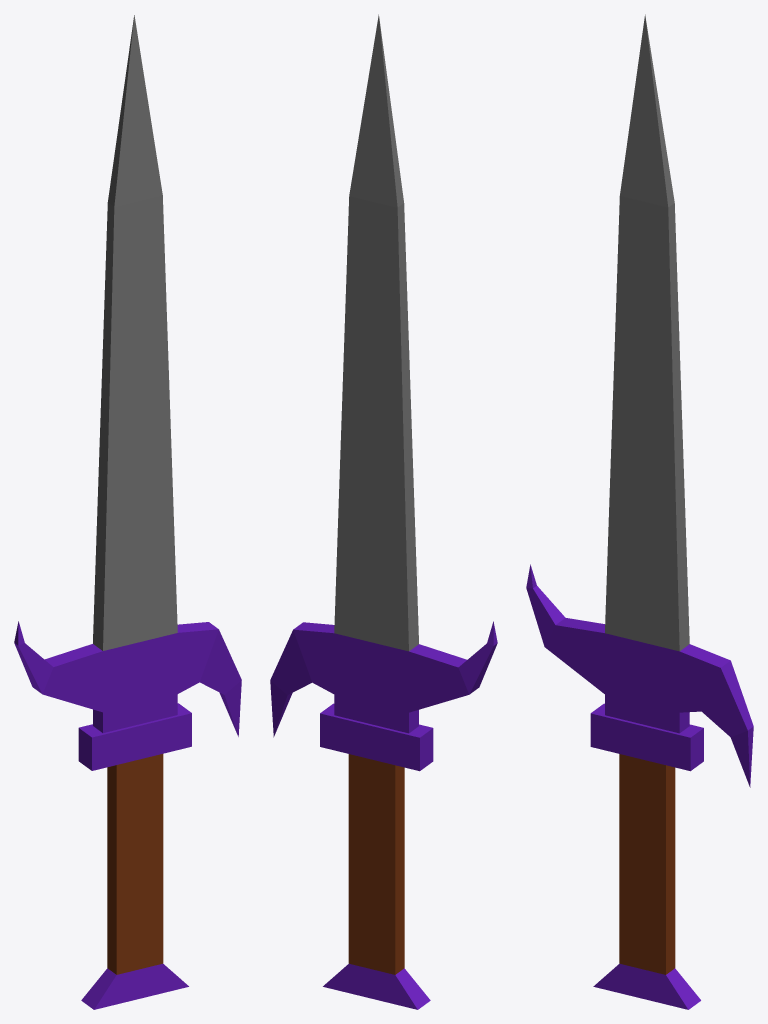
Rendered from sword.fbx.
3 renders of one model, left to right at view 1: azimuth 30°, elevation 25°; view 2: azimuth 150°, elevation 25°; view 3: azimuth 330°, elevation 25°, orthographic.
Visible parts, largest first — view 1: Sword; view 2: Sword; view 3: Sword.
Part boxes in pixels (x1,y1,x2,y2): Sword: [14, 15, 241, 1009]; Sword: [270, 14, 497, 1009]; Sword: [526, 14, 753, 1009].
Size of the model in its own units: 9.51 by 40 by 1.
